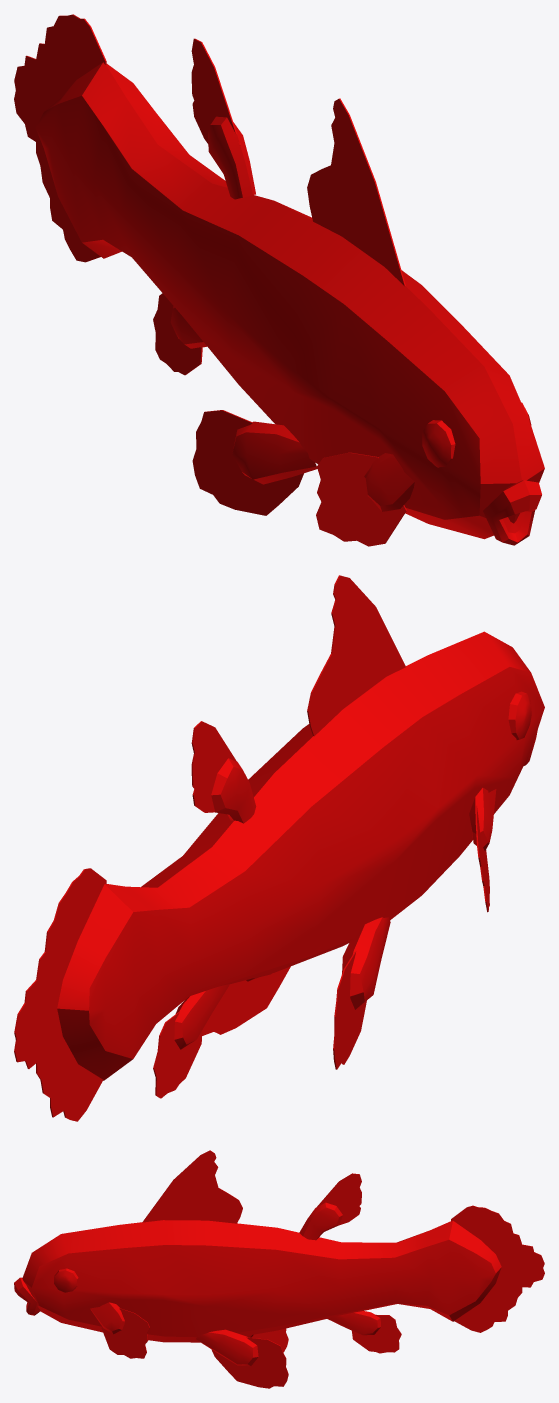
3 renders of one model, top to bottom at view 1: azimuth 30°, elevation 25°; view 2: azimuth 150°, elevation 25°; view 3: azimuth 270°, elevation 25°, orthographic. The views are drawn at different scales.
Parts seen in each view (by area): view 1: Fish_Coelacanth; view 2: Fish_Coelacanth; view 3: Fish_Coelacanth.
Boxes of the visible parts, left/top/right/bottom form: Fish_Coelacanth: left=14, top=14, right=544, bottom=546; Fish_Coelacanth: left=14, top=575, right=544, bottom=1121; Fish_Coelacanth: left=14, top=1150, right=544, bottom=1388.
Bounding box in the file's own units: 0.1628 × 0.3938 × 0.8515.
